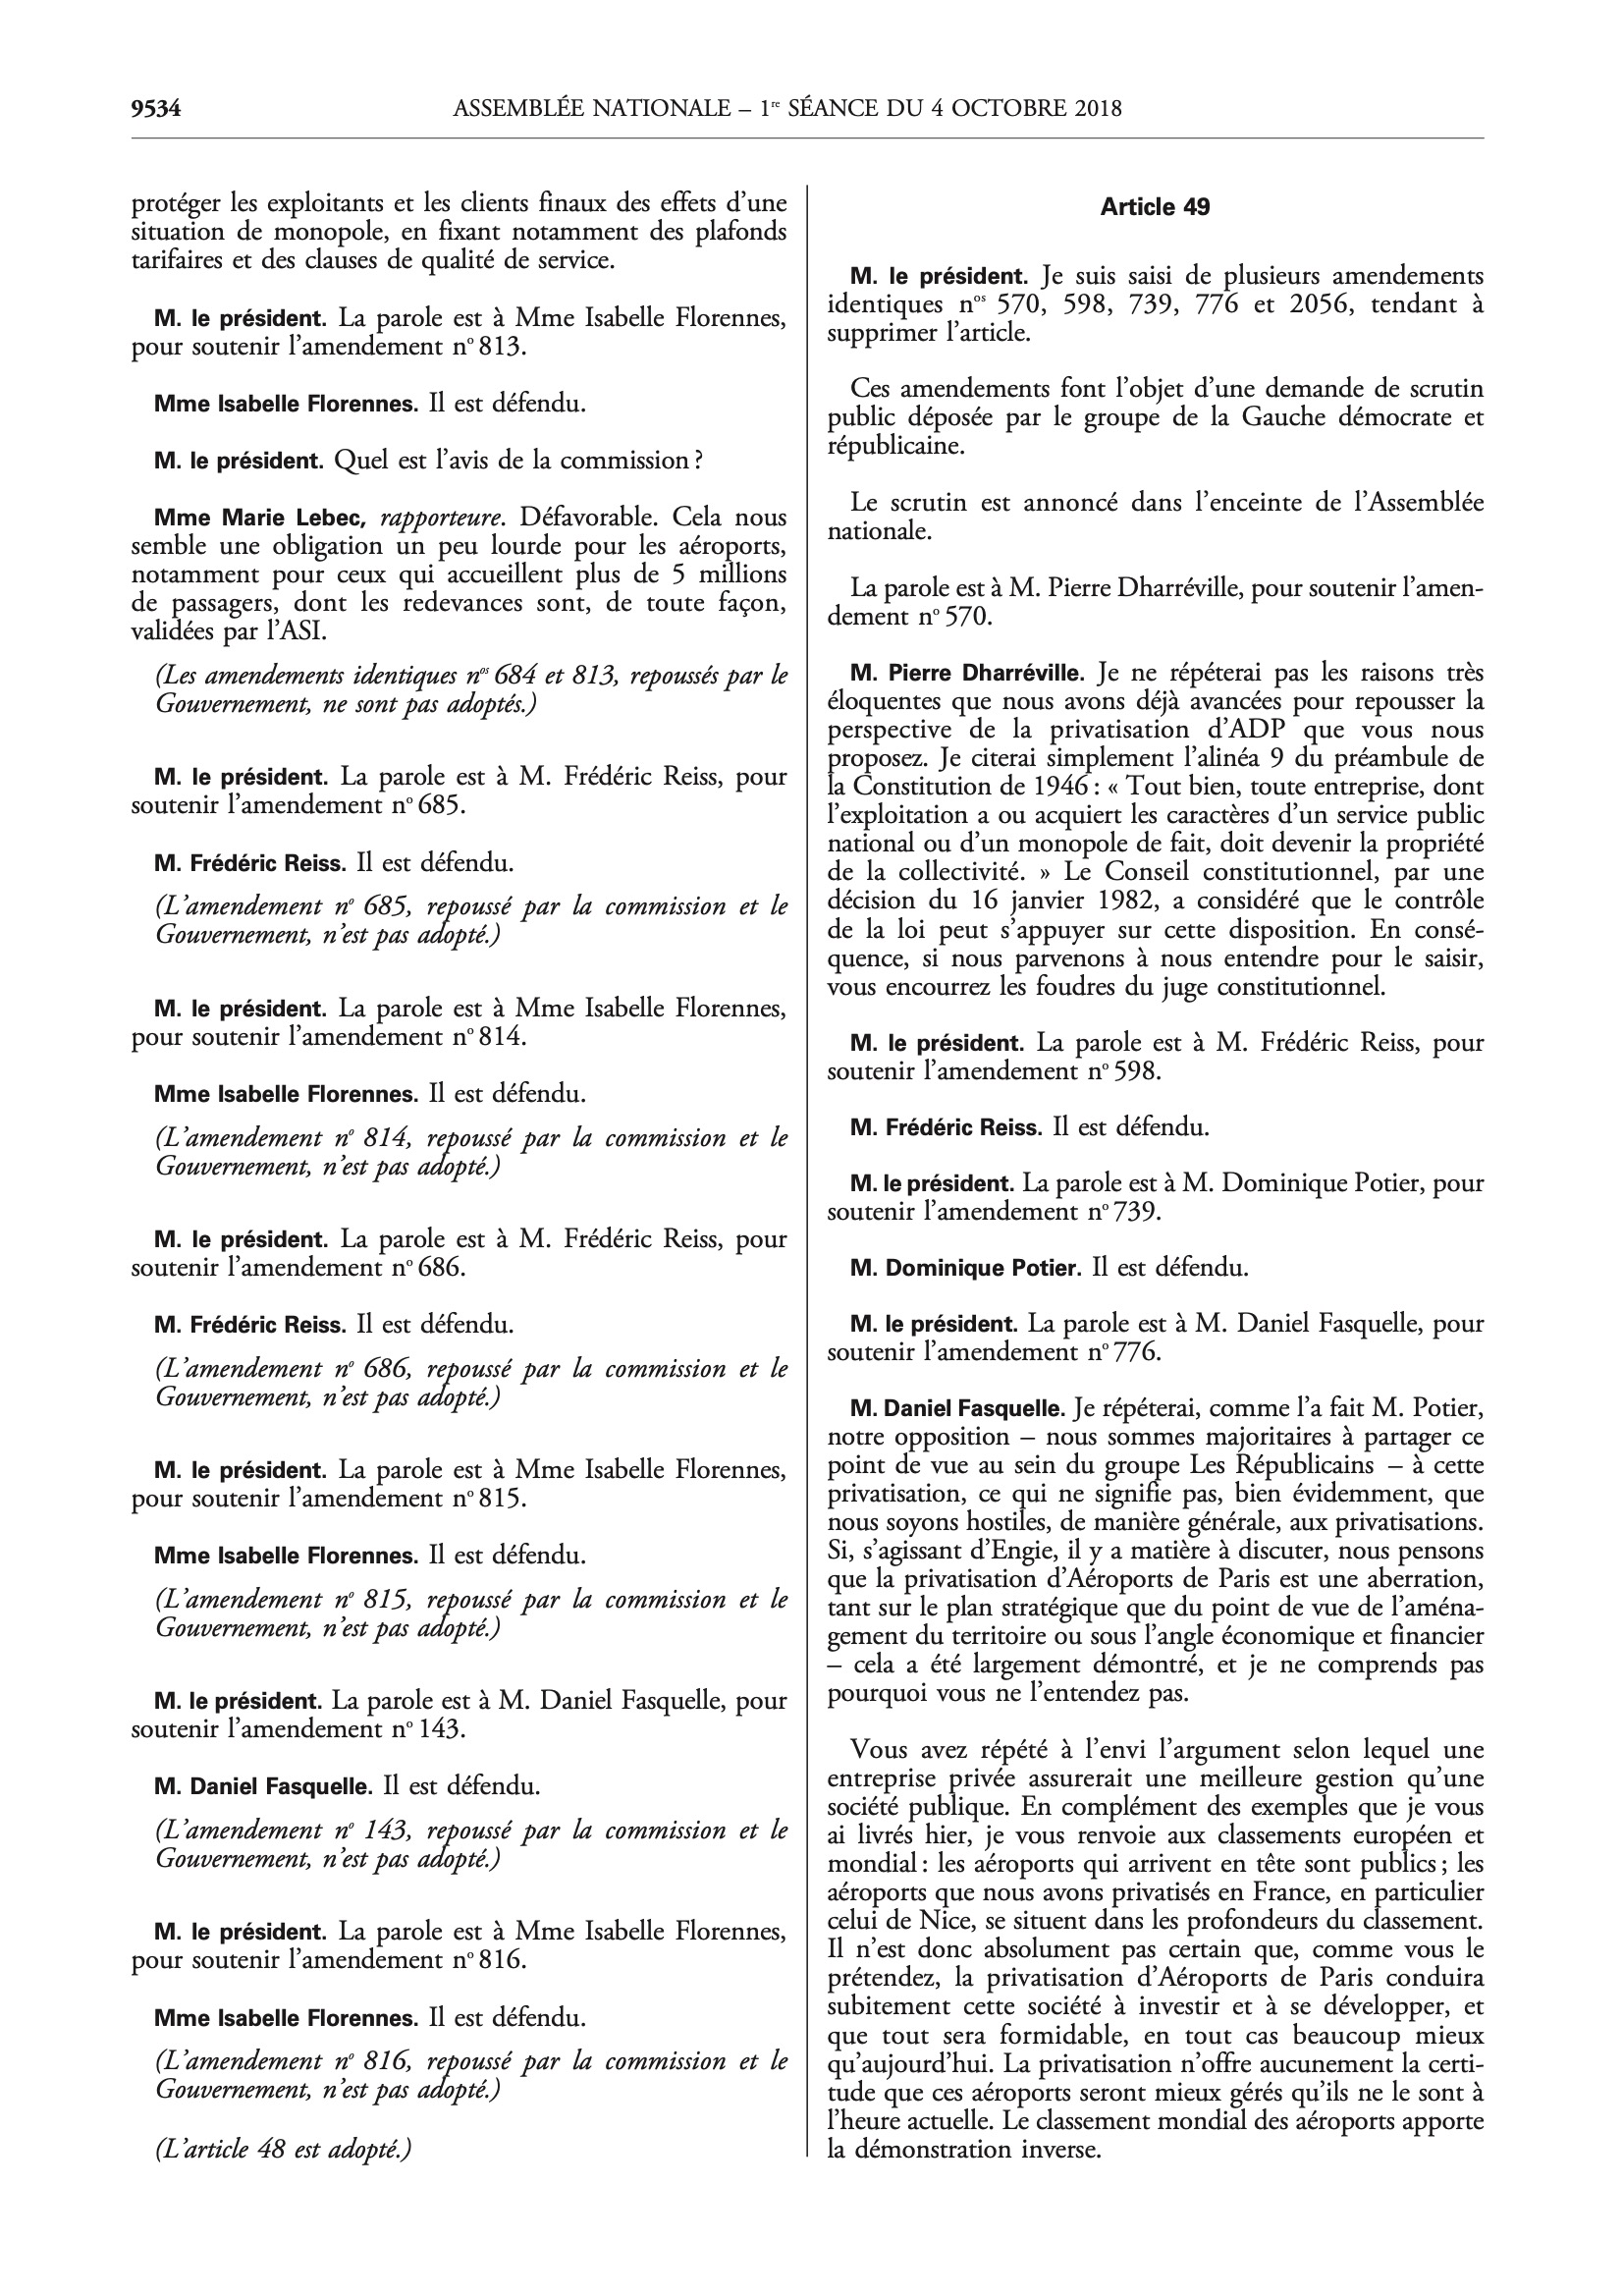MainZone-Continued: (120, 180, 792, 282)
MainZone-Head: (1088, 185, 1217, 230)
MainZone-P: (819, 1730, 1494, 2168), (820, 655, 1493, 1007), (821, 1390, 1491, 1713), (120, 499, 793, 648), (131, 1078, 793, 1190), (819, 368, 1490, 466), (819, 254, 1490, 352), (133, 1117, 788, 1190), (119, 295, 791, 366), (124, 657, 793, 729), (121, 986, 789, 1058), (821, 1162, 1492, 1232), (121, 1448, 790, 1518), (818, 1022, 1491, 1092), (120, 1218, 789, 1287), (818, 484, 1490, 553), (119, 756, 788, 825), (819, 568, 1488, 636), (123, 1911, 787, 1980), (141, 1578, 789, 1648), (122, 1679, 788, 1747), (133, 1351, 794, 1419), (135, 1811, 794, 1879), (819, 1304, 1488, 1371), (132, 891, 793, 957), (136, 2043, 791, 2107), (131, 435, 712, 483), (125, 381, 594, 425), (833, 1246, 1259, 1291), (828, 1105, 1227, 1150), (131, 1998, 596, 2034), (135, 1765, 552, 1804), (134, 843, 520, 883), (139, 1539, 594, 1572), (140, 1308, 521, 1342), (140, 2129, 422, 2169)
NumberingZone: (121, 87, 189, 130)
RunningTitleZone: (443, 84, 1138, 137)
